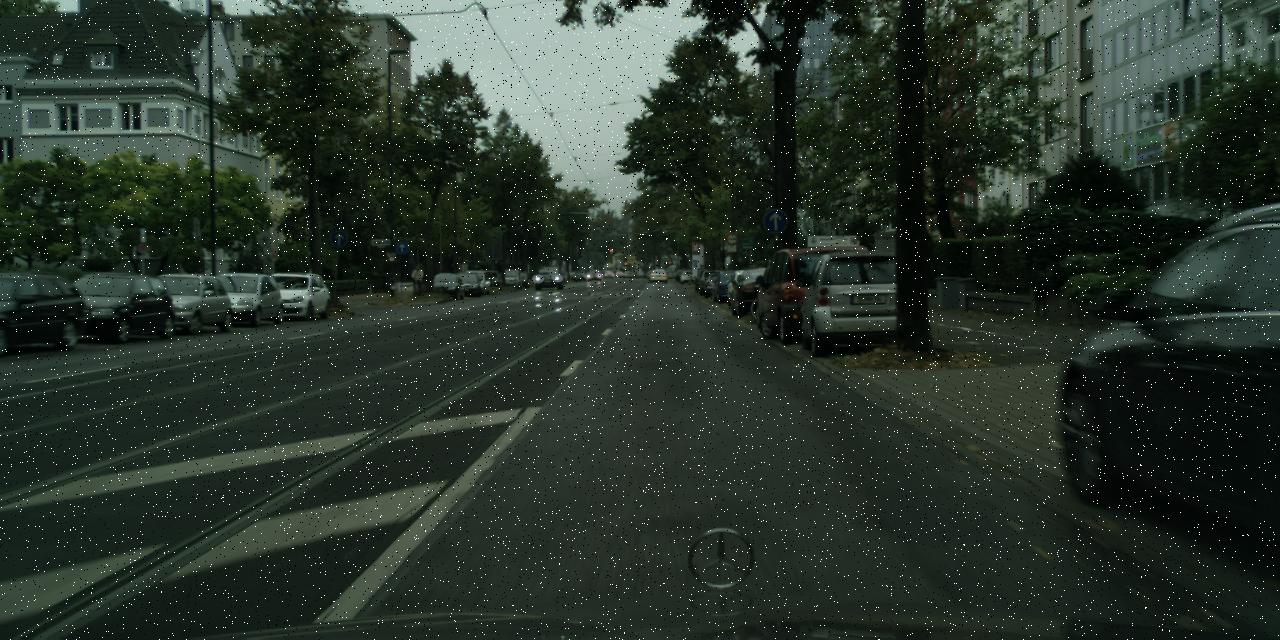ped: (412, 266, 422, 290)
